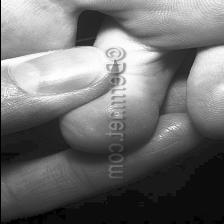Toxin: (138, 40, 160, 64), (130, 52, 139, 94), (104, 29, 126, 40)
